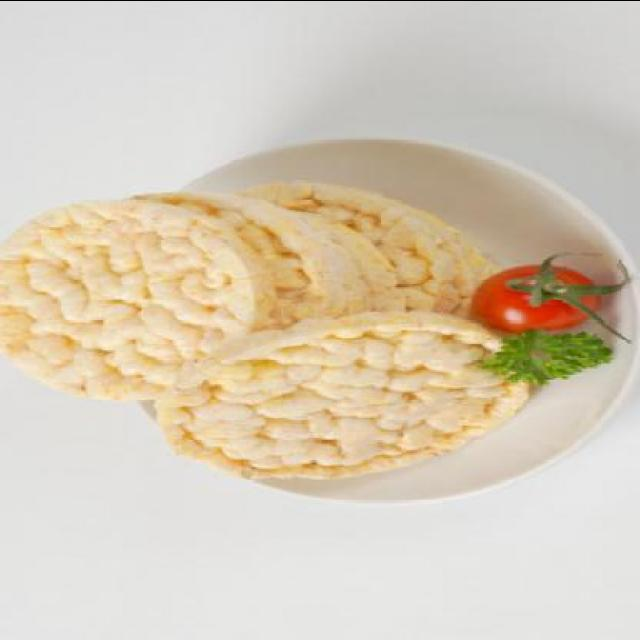Gallette di riso packaged: (153, 310, 522, 479), (3, 194, 265, 400)
